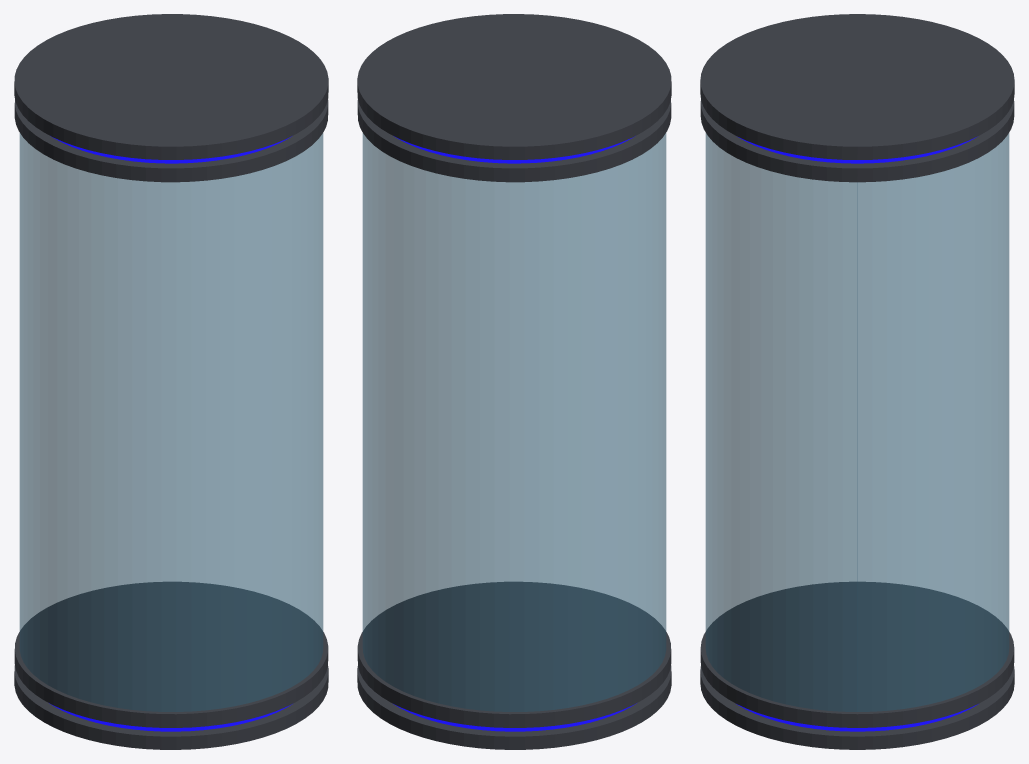
Rendered from Ice chamber.glb.
The picture shows the model from 3 angles, left to right: view 1: azimuth 30°, elevation 25°; view 2: azimuth 150°, elevation 25°; view 3: azimuth 270°, elevation 25°; orthographic projection.
Parts seen in each view (by area): view 1: Glass, Base, Lighting; view 2: Glass, Base, Lighting; view 3: Glass, Base, Lighting.
Boxes of the visible parts, box(x1,y1,x2,y2) form: Glass: box(19, 133, 323, 711); Base: box(14, 14, 328, 749); Lighting: box(49, 136, 292, 731); Glass: box(362, 133, 666, 711); Base: box(357, 14, 671, 749); Lighting: box(393, 136, 636, 731); Glass: box(705, 133, 1009, 711); Base: box(700, 14, 1014, 749); Lighting: box(736, 136, 978, 731).
Size of the model in its own units: 2 by 4.24 by 2.
Materials: 3 (1 with a texture image).
